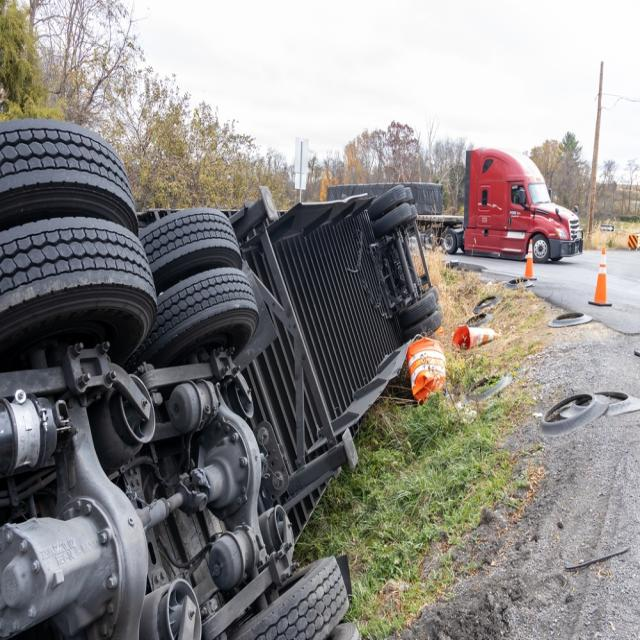Accident: (0, 119, 444, 640)
